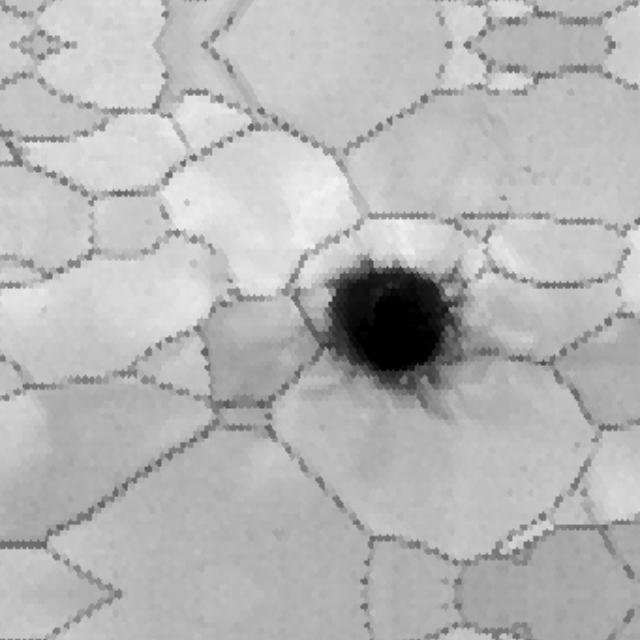good_void: (292, 247, 490, 428), (496, 192, 511, 204), (183, 196, 193, 212)
